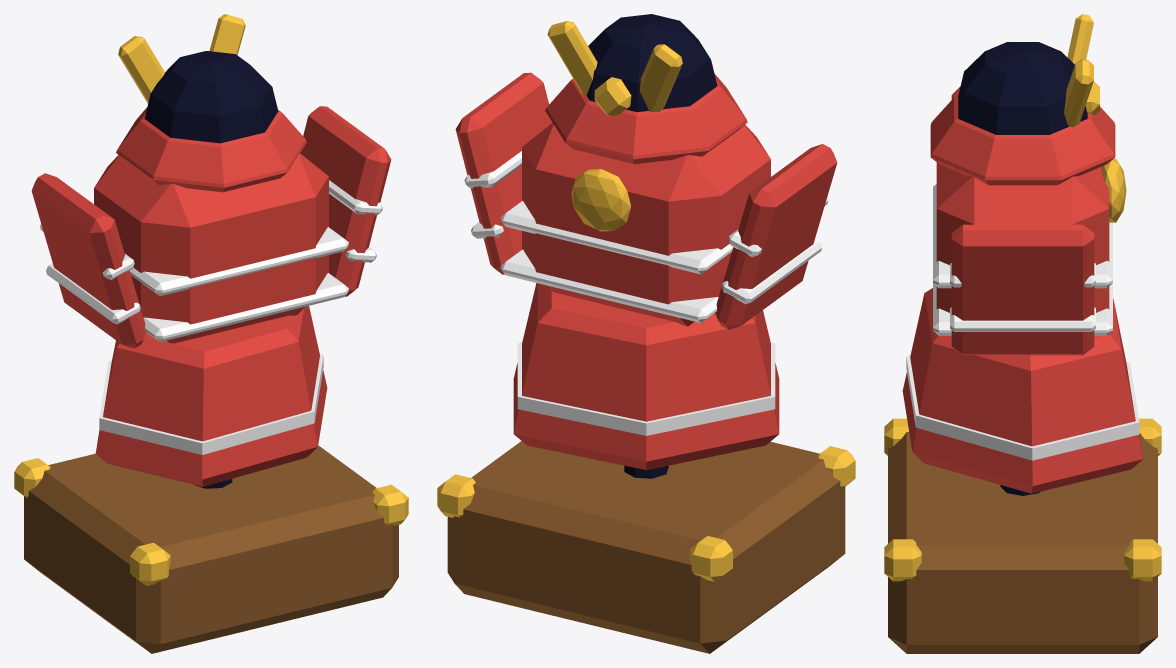
Rendered from Prop_samurai_castle_ArmorStand.glb.
3 views of the same model, side by side, from view 1: azimuth 30°, elevation 25°; view 2: azimuth 150°, elevation 25°; view 3: azimuth 270°, elevation 25° (orthographic). The views are drawn at different scales.
Parts seen in each view (by area): view 1: ZoneRed_E0453C, Wood_8A5A2B, LaceWhite_FFFFFF, Ink_0D0F2B, Gold_FFC83D; view 2: ZoneRed_E0453C, Wood_8A5A2B, LaceWhite_FFFFFF, Gold_FFC83D, Ink_0D0F2B; view 3: ZoneRed_E0453C, Wood_8A5A2B, Ink_0D0F2B, LaceWhite_FFFFFF, Gold_FFC83D.
Boxes of the visible parts, x1,y1,x2,y2 form: ZoneRed_E0453C: (31,106,391,486); Wood_8A5A2B: (24,445,398,653); LaceWhite_FFFFFF: (40,180,382,454); Ink_0D0F2B: (144,51,278,488); Gold_FFC83D: (14,14,408,585); ZoneRed_E0453C: (455,72,837,470); Wood_8A5A2B: (447,441,845,653); LaceWhite_FFFFFF: (464,151,828,435); Gold_FFC83D: (437,21,855,581); Ink_0D0F2B: (586,14,717,478); ZoneRed_E0453C: (902,86,1143,493); Wood_8A5A2B: (888,432,1157,653); Ink_0D0F2B: (958,42,1087,495); LaceWhite_FFFFFF: (906,184,1139,460); Gold_FFC83D: (884,14,1161,581).
Bounding box in the file's own units: 4.83 × 8.21 × 3.7.
